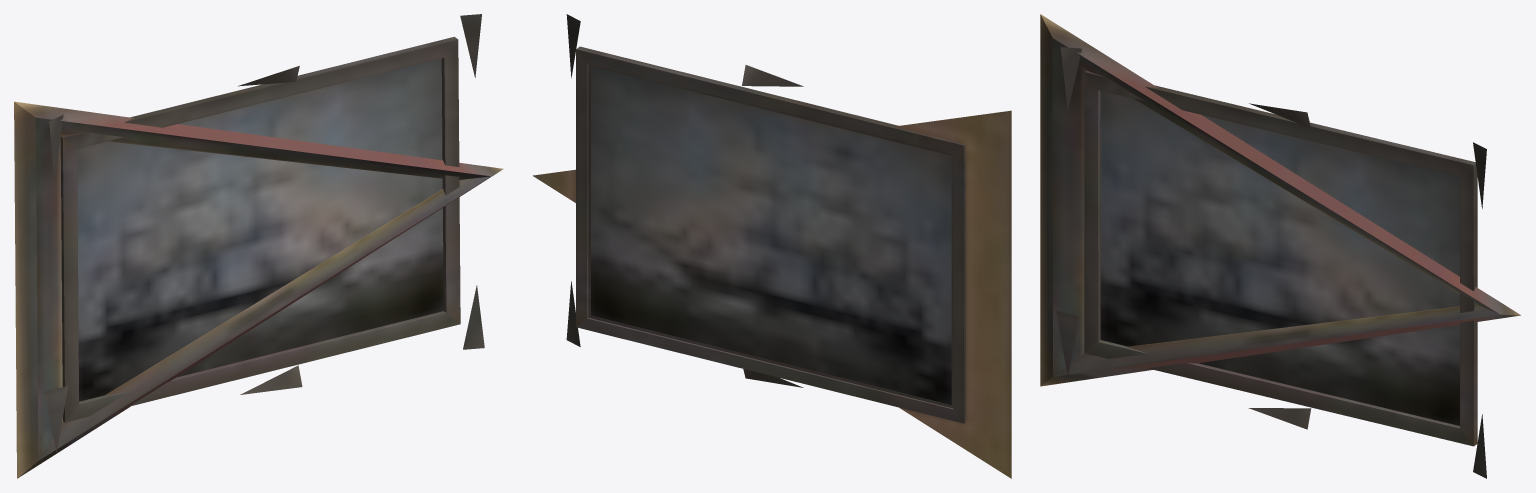
Rendered from painting-hall-4.lod1.glb.
3 views of the same model, side by side, from view 1: azimuth 30°, elevation 25°; view 2: azimuth 150°, elevation 25°; view 3: azimuth 330°, elevation 25° (orthographic).
Visible parts, largest first — view 1: painting-hall-4; view 2: painting-hall-4; view 3: painting-hall-4.
Boxes of the visible parts, x1,y1,x2,y2 form: painting-hall-4: (14,14,503,478); painting-hall-4: (533,14,1011,478); painting-hall-4: (1040,14,1520,478).
Size of the model in its own units: 0.6013 by 0.4425 by 0.0219.
1 material, 1 textured.
